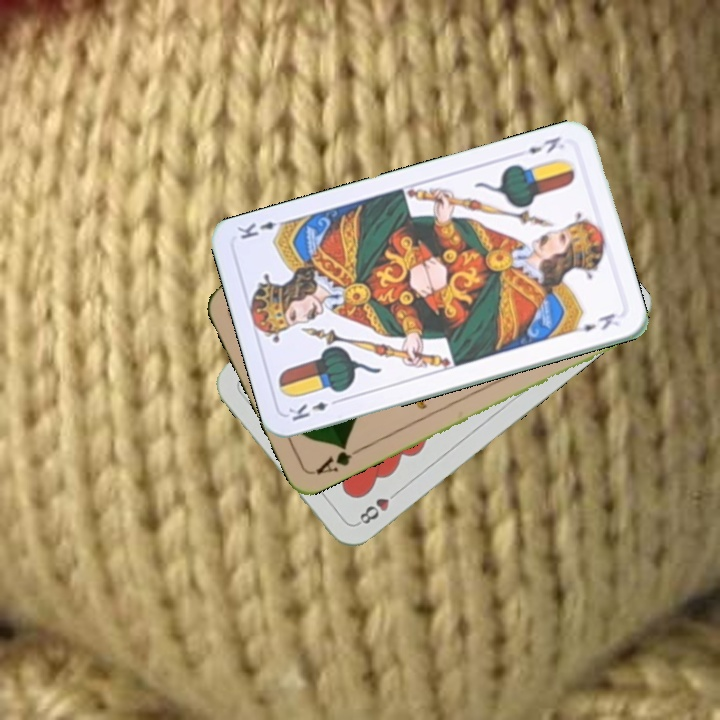EK: (284, 394, 344, 424), (512, 132, 563, 157)
GA: (312, 440, 366, 477)
H8: (353, 486, 402, 528)
